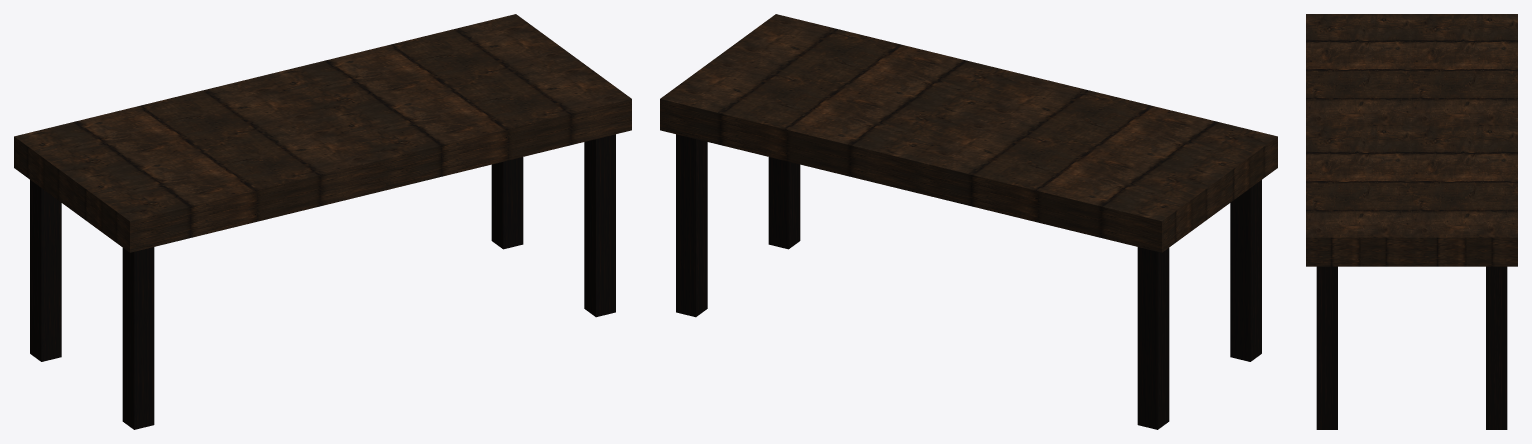
The picture shows the model from 3 angles, left to right: view 1: azimuth 30°, elevation 25°; view 2: azimuth 150°, elevation 25°; view 3: azimuth 270°, elevation 25°; orthographic projection. The views are drawn at different scales.
Parts seen in each view (by area): view 1: fixture-C-records; view 2: fixture-C-records; view 3: fixture-C-records.
Part boxes in pixels (box(x1,y1,x2,y2)): fixture-C-records: box(14, 14, 631, 429); fixture-C-records: box(660, 14, 1277, 429); fixture-C-records: box(1306, 14, 1517, 429).
Bounding box in the file's own units: 2 × 0.82 × 0.8.
2 materials, 2 textured.
